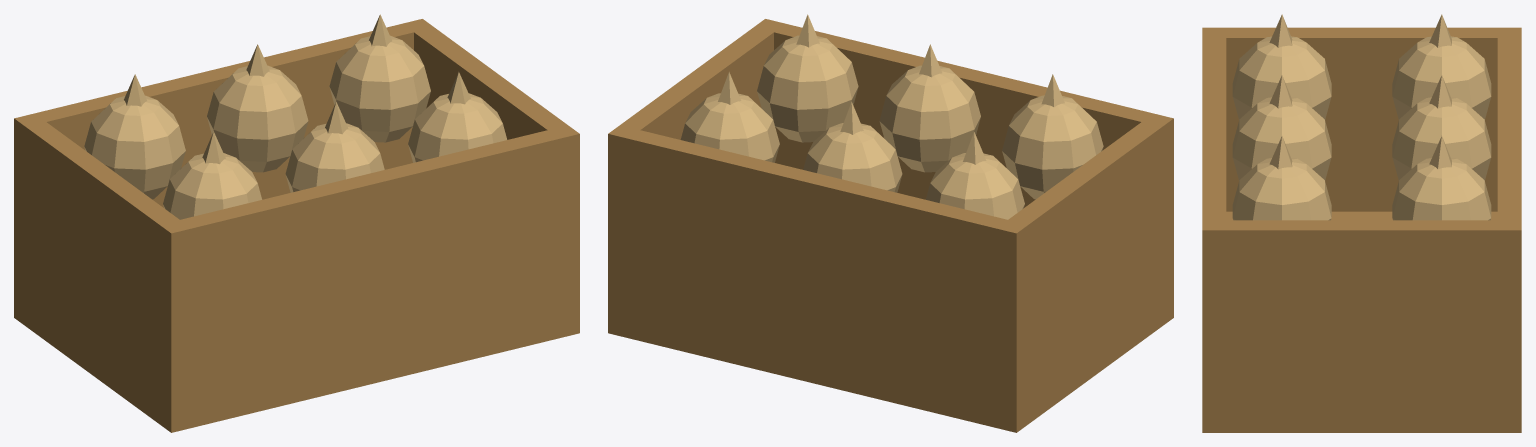
The model's file is kitchen_crate_onion.glb.
The picture shows the model from 3 angles, left to right: view 1: azimuth 30°, elevation 25°; view 2: azimuth 150°, elevation 25°; view 3: azimuth 270°, elevation 25°; orthographic projection.
Parts seen in each view (by area): view 1: crate_crate_wood, onion_food_onion; view 2: crate_crate_wood, onion_food_onion; view 3: crate_crate_wood, onion_food_onion.
Part boxes in pixels (x1,y1,x2,y2): crate_crate_wood: (14, 19, 579, 432); onion_food_onion: (84, 14, 507, 219); crate_crate_wood: (608, 19, 1173, 432); onion_food_onion: (680, 14, 1103, 219); crate_crate_wood: (1202, 27, 1521, 432); onion_food_onion: (1232, 14, 1491, 220).
Bounding box in the file's own units: 0.6 × 0.355 × 0.4.
